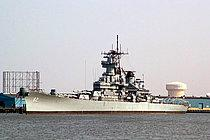MIL_Ship: (21, 49, 188, 113)
